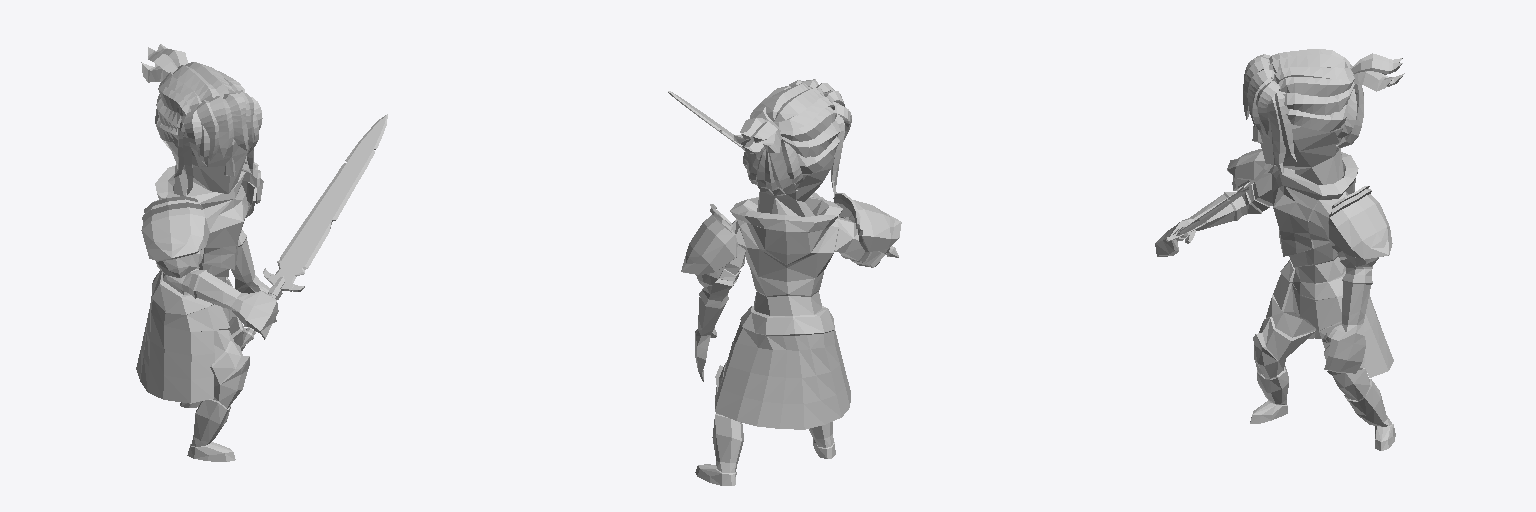
3 renders of one model, left to right at view 1: azimuth 30°, elevation 25°; view 2: azimuth 150°, elevation 25°; view 3: azimuth 270°, elevation 25°, orthographic.
Parts seen in each view (by area): view 1: Warrior.002__ncl1_29.005, Face__ncl1_29.002, Warrior_Sword_Cylinder.001, Shoulder.R__ncl1_29.001, Shoulder.L__ncl1_29.000; view 2: Warrior.002__ncl1_29.005, Face__ncl1_29.002, Shoulder.L__ncl1_29.000, Shoulder.R__ncl1_29.001, Warrior_Sword_Cylinder.001; view 3: Warrior.002__ncl1_29.005, Face__ncl1_29.002, Shoulder.L__ncl1_29.000, Shoulder.R__ncl1_29.001, Warrior_Sword_Cylinder.001.
Part boxes in pixels (left/top/right/bottom): Warrior.002__ncl1_29.005: left=136, top=116, right=278, bottom=461; Face__ncl1_29.002: left=141, top=44, right=262, bottom=194; Warrior_Sword_Cylinder.001: left=243, top=114, right=387, bottom=343; Shoulder.R__ncl1_29.001: left=141, top=196, right=209, bottom=277; Shoulder.L__ncl1_29.000: left=242, top=156, right=263, bottom=217; Warrior.002__ncl1_29.005: left=695, top=121, right=886, bottom=485; Face__ncl1_29.002: left=734, top=79, right=851, bottom=196; Shoulder.L__ncl1_29.000: left=681, top=204, right=737, bottom=286; Shoulder.R__ncl1_29.001: left=833, top=192, right=901, bottom=253; Warrior_Sword_Cylinder.001: left=668, top=91, right=898, bottom=257; Warrior.002__ncl1_29.005: left=1155, top=112, right=1395, bottom=450; Face__ncl1_29.002: left=1243, top=49, right=1404, bottom=175; Shoulder.L__ncl1_29.000: left=1328, top=186, right=1392, bottom=266; Shoulder.R__ncl1_29.001: left=1227, top=149, right=1272, bottom=191; Warrior_Sword_Cylinder.001: left=1166, top=187, right=1248, bottom=241.
Size of the model in its own units: 1.87 by 2.84 by 1.74.